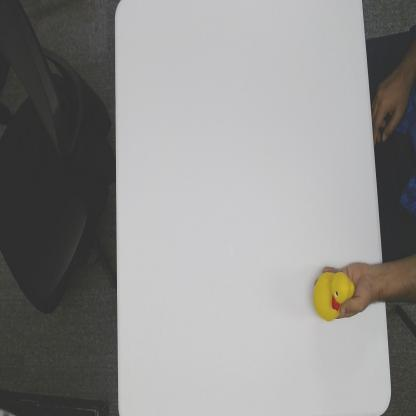Duck: (312, 269, 355, 321)
Hand: (322, 261, 374, 319)
